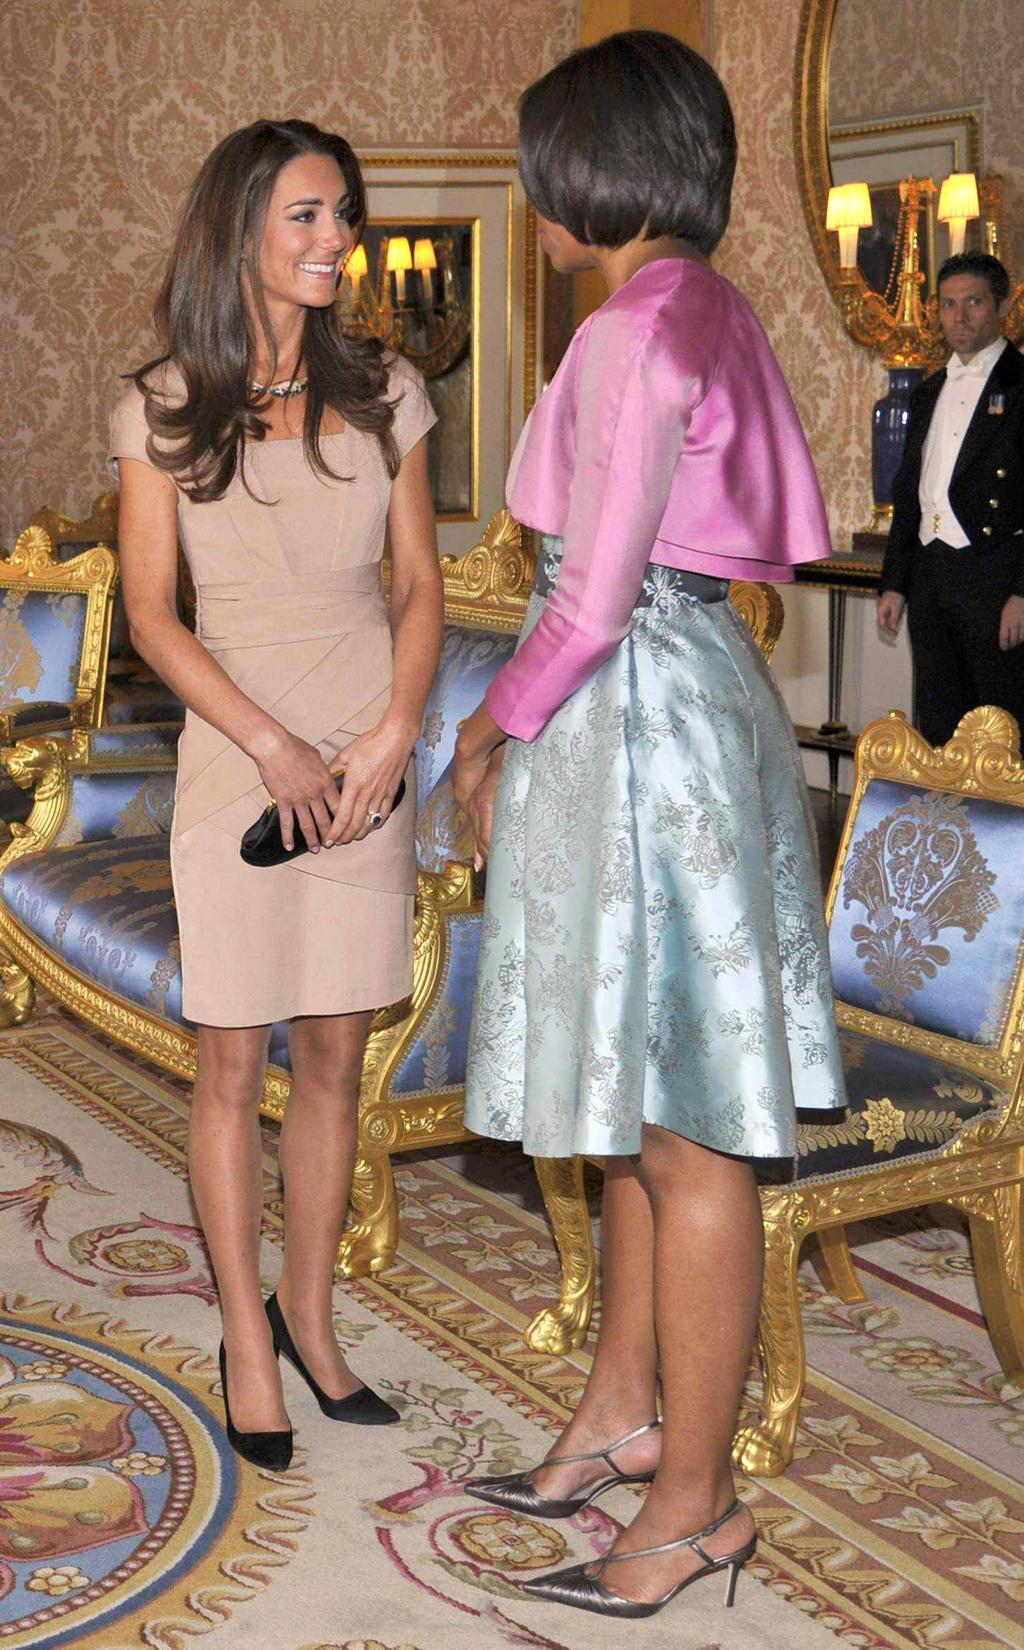face: (251, 155, 354, 303), (937, 267, 998, 351)
